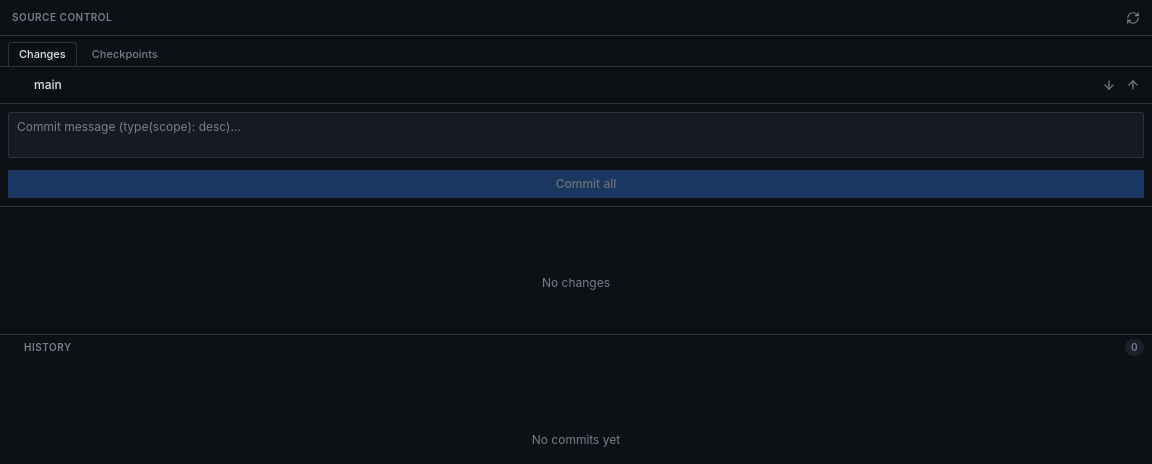
GitPane — File interaction behaviours › enables the commit button when commit message is non-empty
The width and height of the screenshot is (1152, 464).
Expected: the button "Commit all" is shown, [8,170,1144,198]
Type "feat: add feature" into the text box with placeholder "Commit message (type(scope): desc)…" at coordinates (576, 135), box [8,112,1144,158]
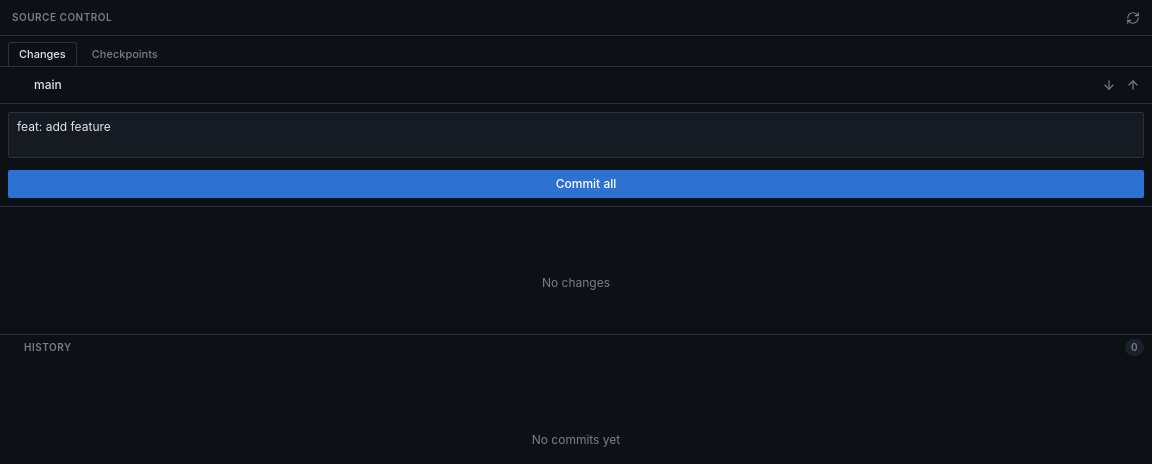
Now the button "Commit all" is enabled, box [8,170,1144,198]
